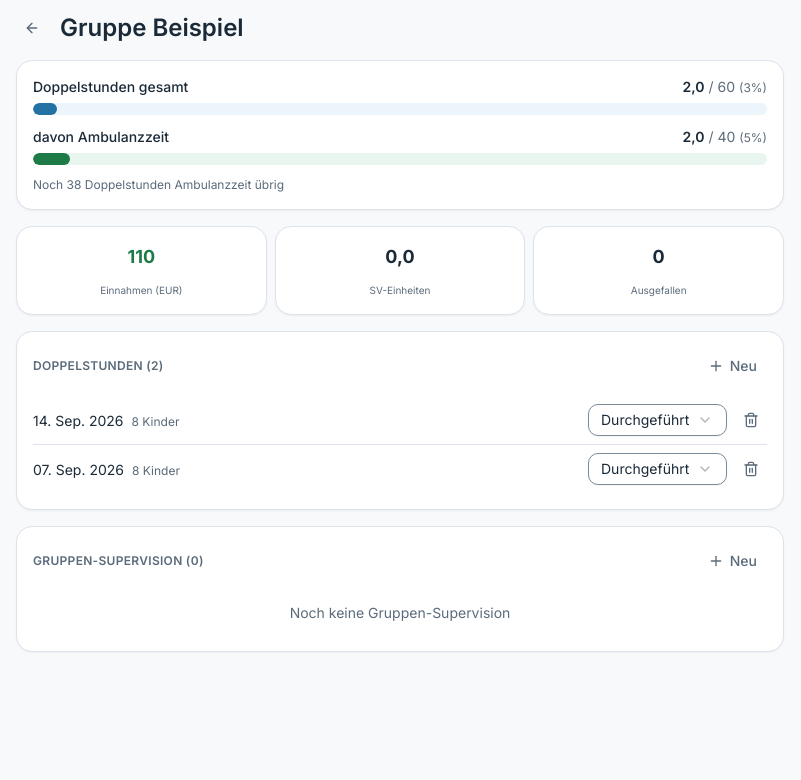
GroupDetailClient › zeigt im Formular das Honorar der Staffel am gewählten Datum
Click the button "Neu" in the row of "Doppelstunden (" at [732, 366], box [698,348,767,384]
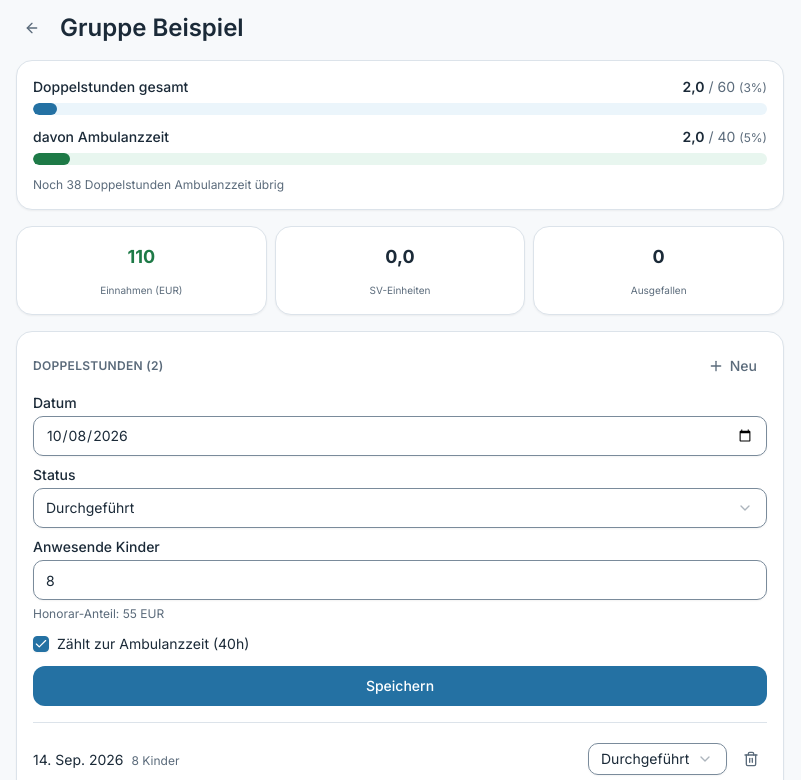
Type "2025-12-31" into the date field with id "gs-date" at [400, 436], box [33,416,767,456]
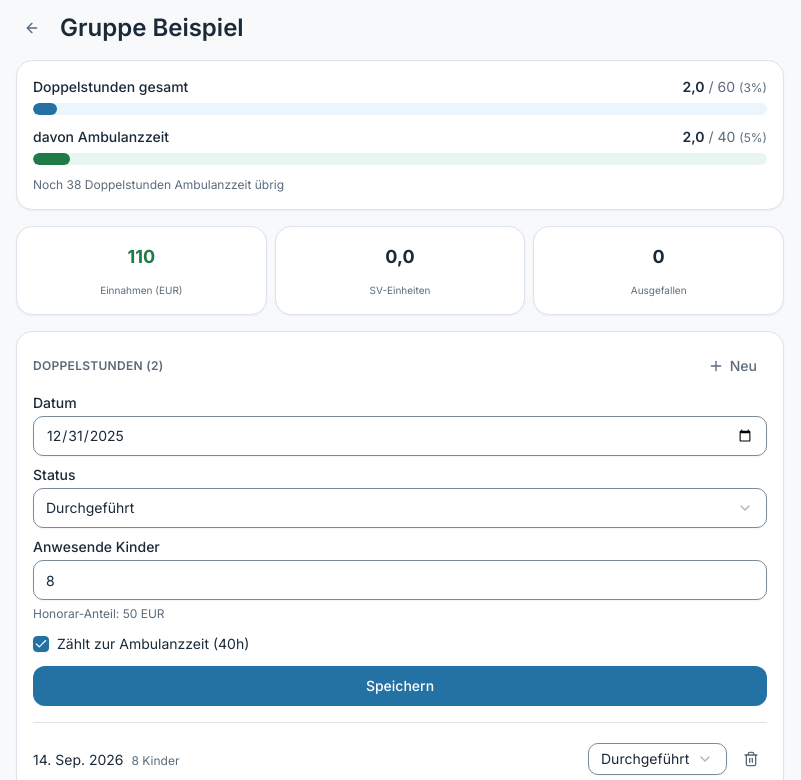
Result: the text "Honorar-Anteil: 50 EUR" is shown at [33,606,165,621]
Type "2026-01-02" into the date field with id "gs-date" at [400, 436], box [33,416,767,456]
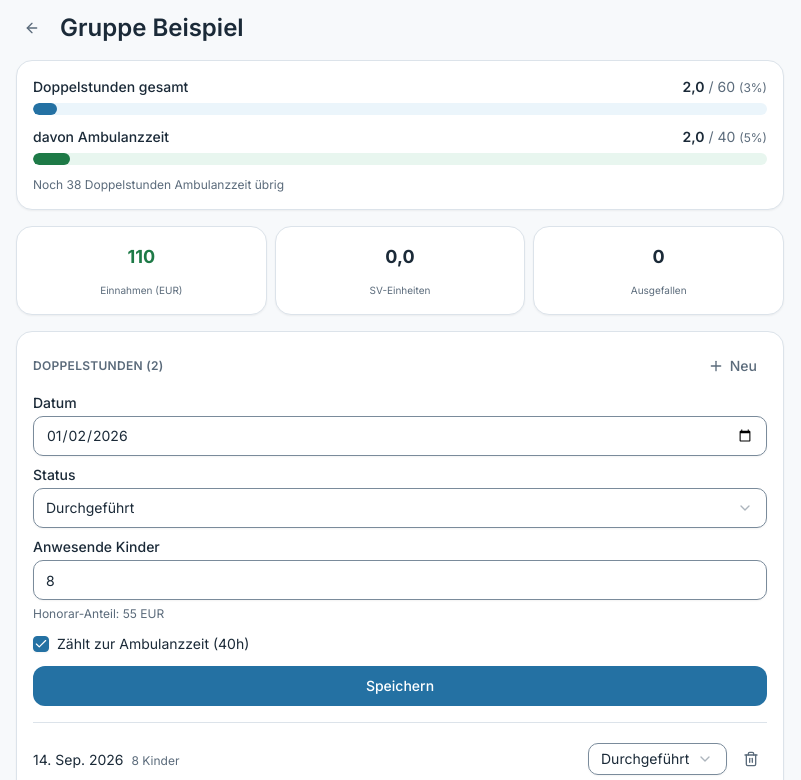
Result: the text "Honorar-Anteil: 55 EUR" is shown at [33,606,164,621]
